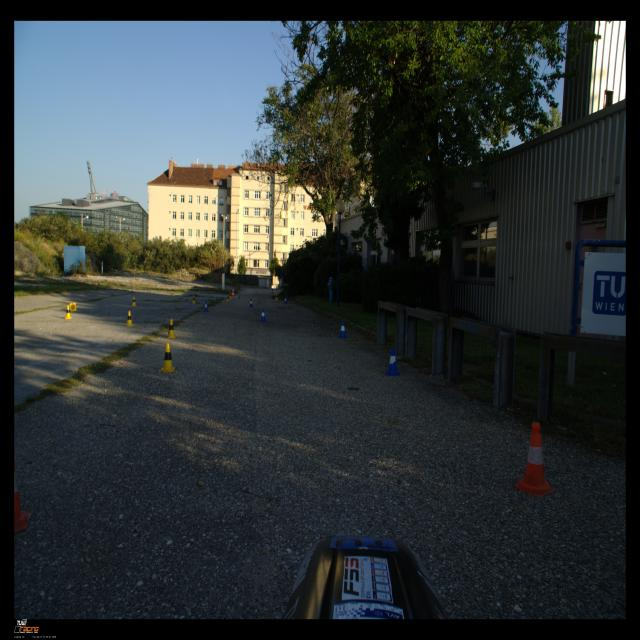blue_cone: (385, 347, 400, 376), (337, 321, 348, 338), (259, 308, 267, 322), (203, 301, 209, 312), (248, 298, 254, 308), (284, 296, 287, 304)
large_orange_cone: (232, 287, 235, 297), (271, 289, 274, 298)
orange_cone: (513, 422, 557, 497), (14, 462, 31, 534)
yellow_cone: (158, 343, 178, 373), (166, 319, 177, 338), (124, 310, 134, 326), (64, 305, 72, 319), (131, 296, 137, 306), (70, 302, 76, 312), (192, 295, 196, 304), (226, 294, 230, 302), (275, 294, 278, 300), (230, 292, 232, 300)
